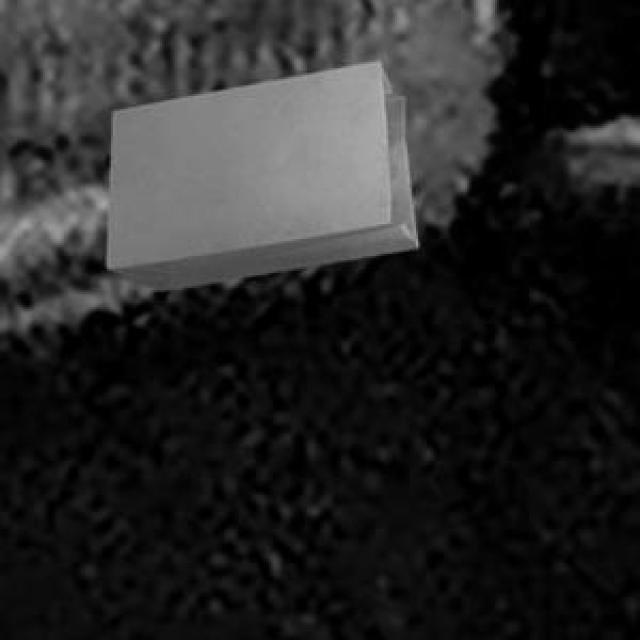paper: (102, 58, 414, 286)
